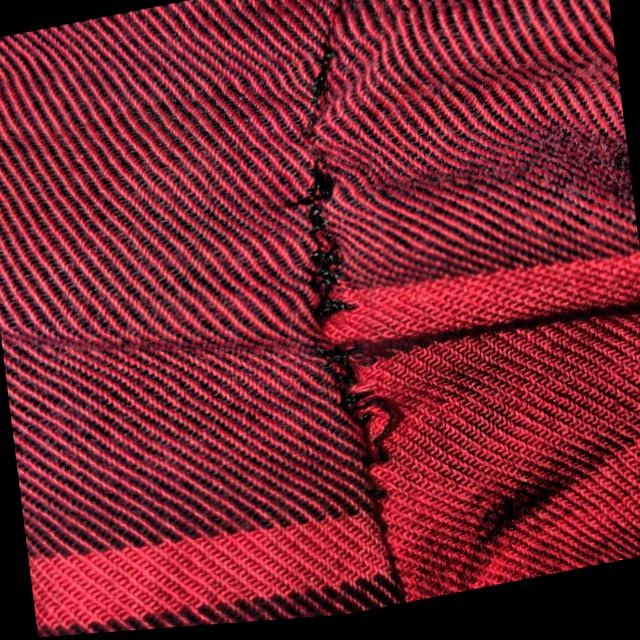Stitch: (213, 46, 457, 536)
